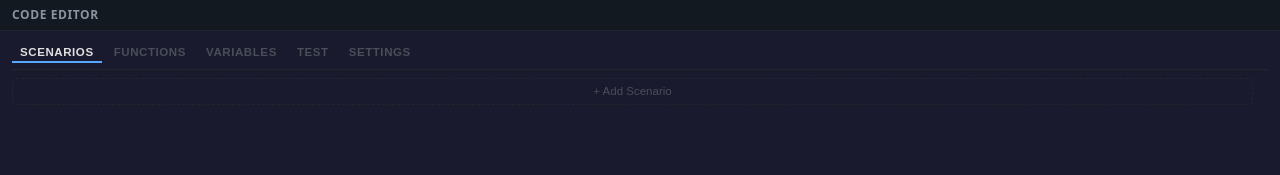
Test: variable type handling › should show type selector for variables
The width and height of the screenshot is (1280, 175).
Click the button "Variables": (241, 53) [198,43,285,63]
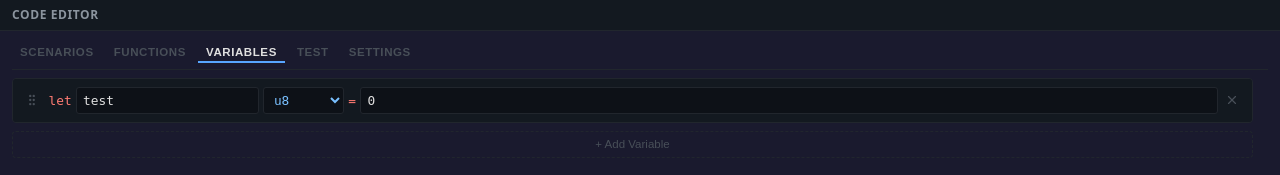
expect the dropdown with class "select" is shown: met, box [262,87,344,114]
